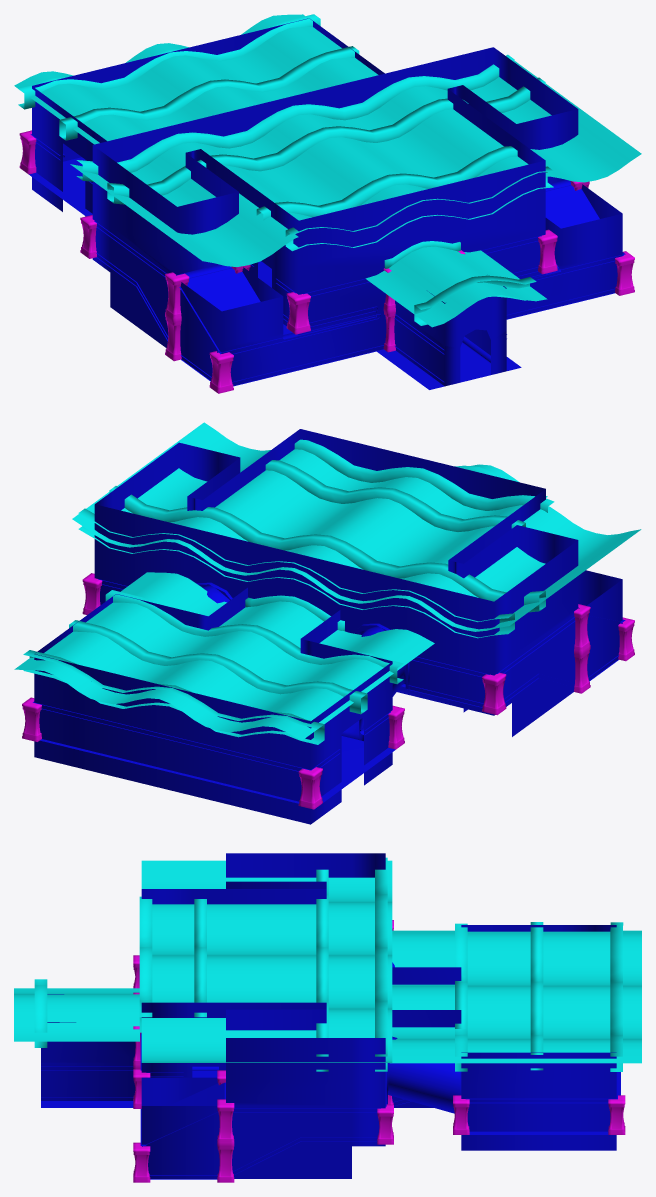
The model's file is Map002_M_Export.fbx.
3 views of the same model, one above another, from view 1: azimuth 30°, elevation 25°; view 2: azimuth 150°, elevation 25°; view 3: azimuth 270°, elevation 25° (orthographic). The views are drawn at different scales.
Parts seen in each view (by area): view 1: Bottom, Top, Collumns; view 2: Bottom, Top, Collumns; view 3: Top, Bottom, Collumns.
Part boxes in pixels (x1,y1,x2,y2): Bottom: (29, 18, 625, 389); Top: (14, 14, 641, 327); Collumns: (19, 130, 634, 393); Bottom: (33, 429, 625, 824); Top: (14, 422, 641, 744); Collumns: (22, 573, 634, 809); Top: (14, 857, 641, 1071); Bottom: (41, 853, 620, 1179); Collumns: (133, 920, 625, 1182).
Size of the model in its own units: 57 by 18.5 by 74.7.
